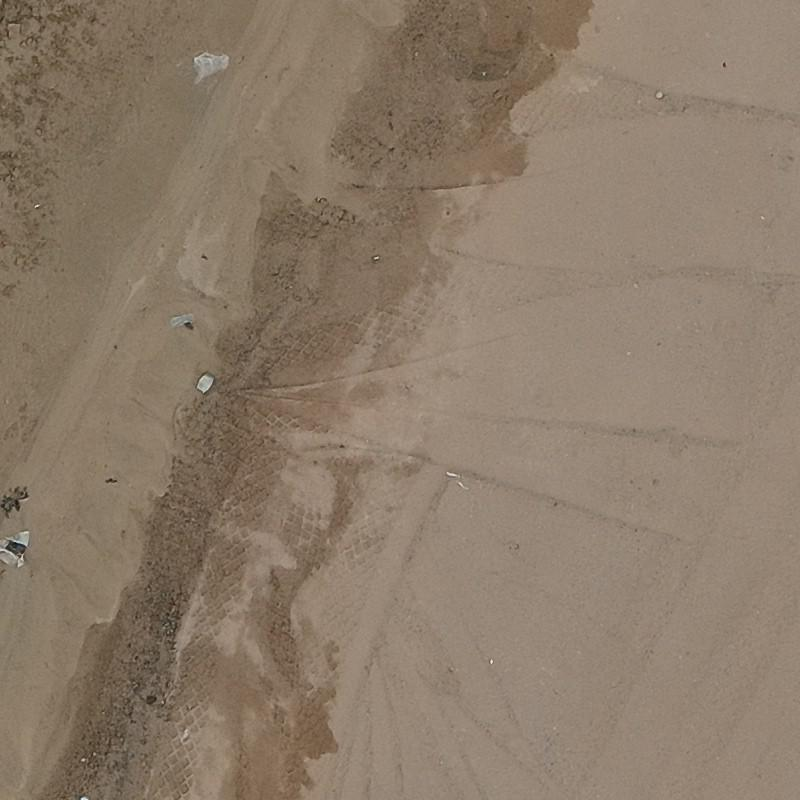coastal_litter: (192, 47, 226, 84), (0, 532, 29, 568), (0, 484, 29, 517)
